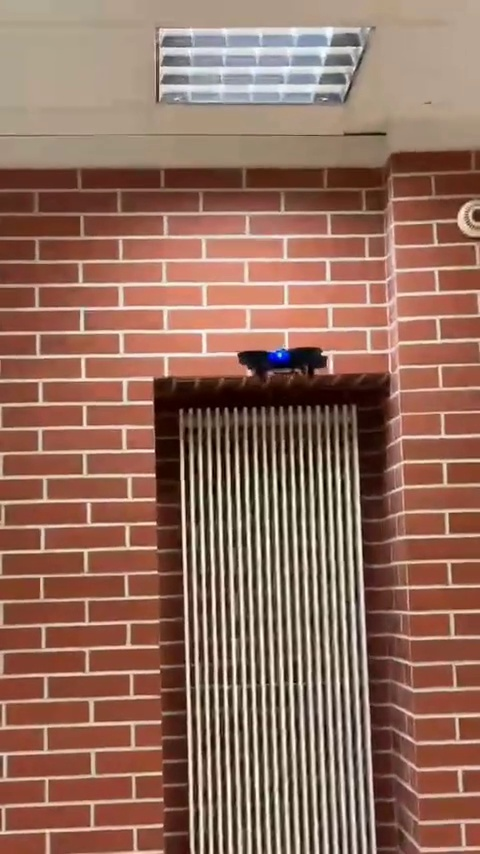drone: (233, 342, 333, 379)
